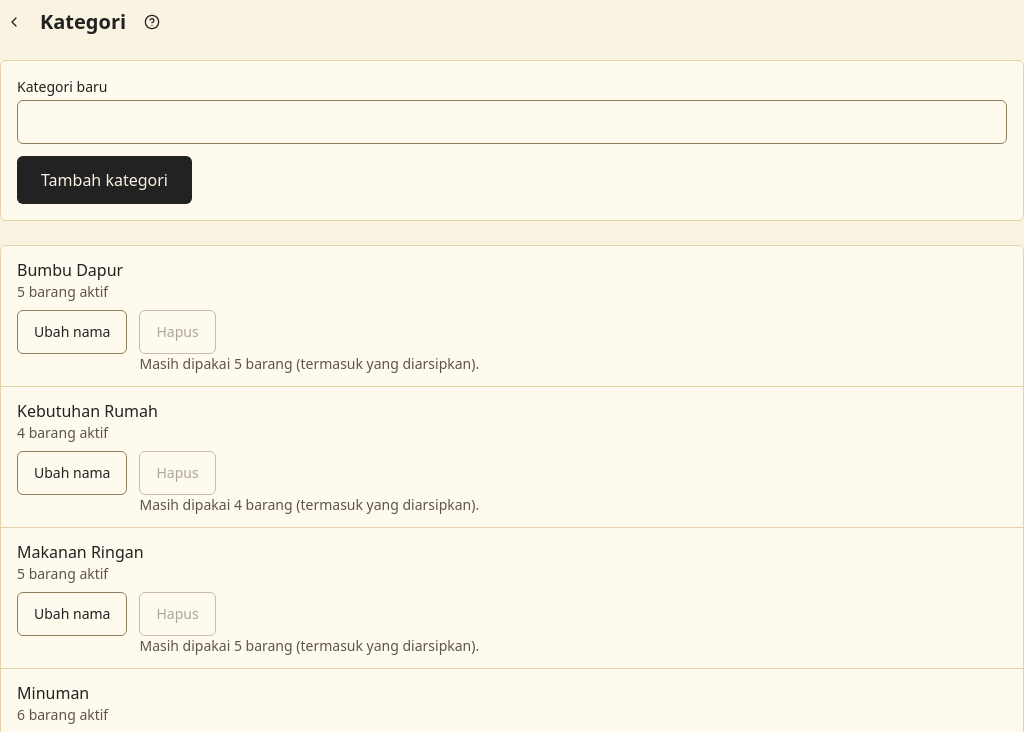
Test: CategoriesPage › mengganti nama: produk ikut berubah dan fokus kembali ke tombol Ubah nama
This screenshot has width=1024, height=732.
Click the button "Ubah nama" below "Bumbu Dapur" at (72, 332), box left=17, top=310, right=128, bottom=354
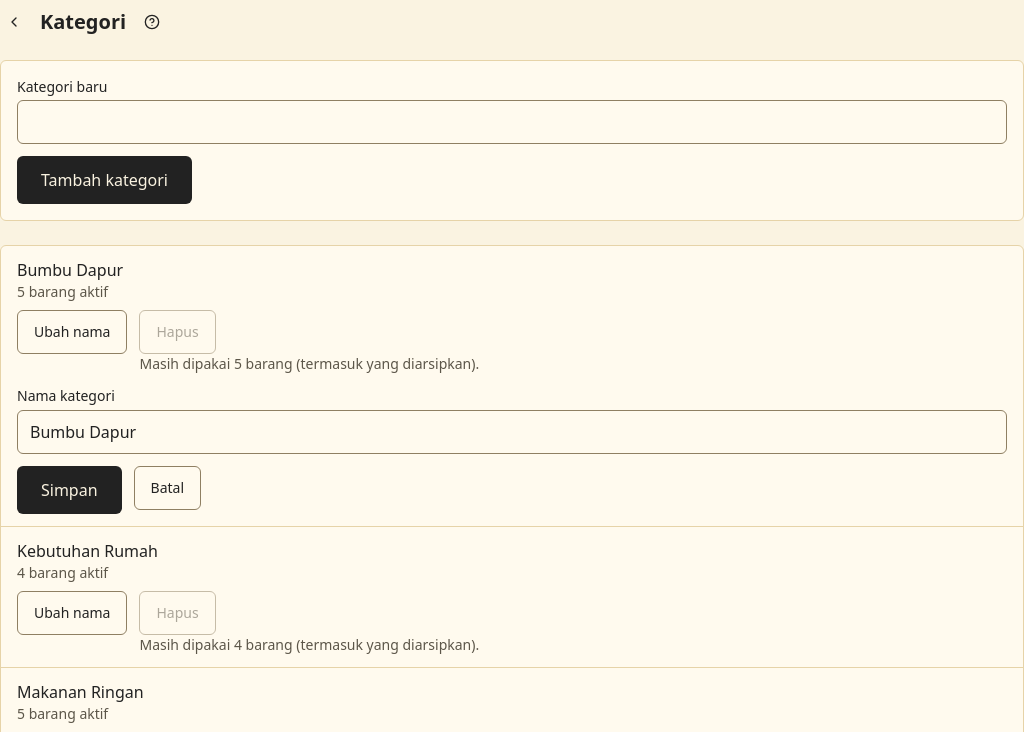
Replace the text in the field labelled "Nama kategori" with "Bumbu & Rempah" at (512, 432), box left=17, top=410, right=1007, bottom=454
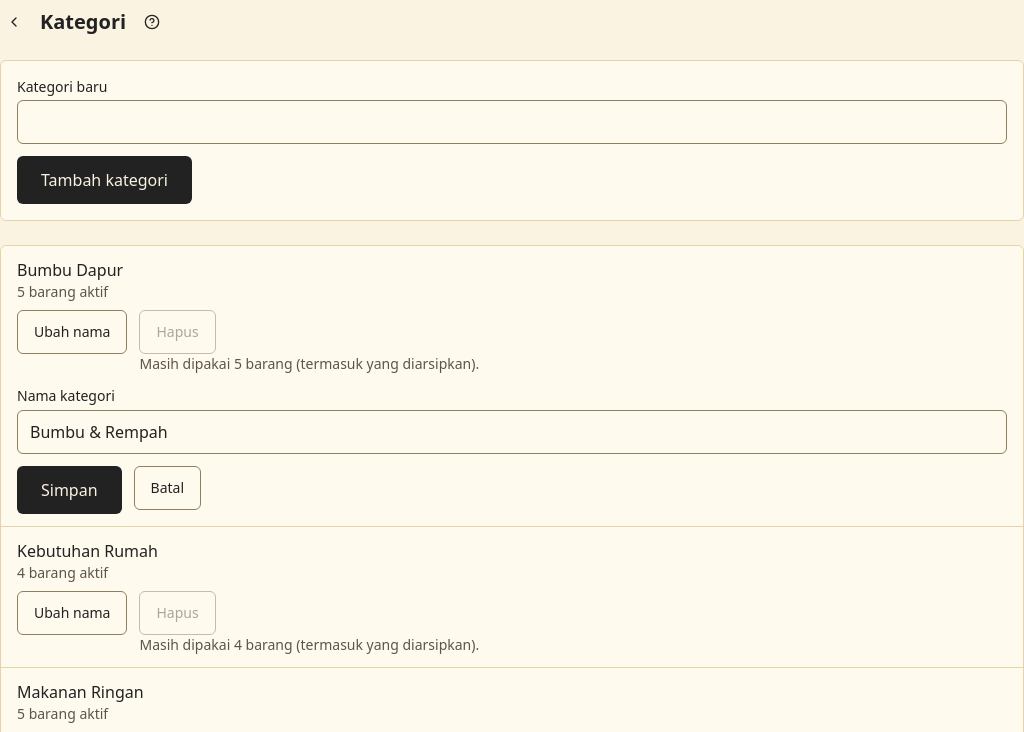
Click the button "Simpan" at (69, 490), box left=17, top=466, right=122, bottom=514
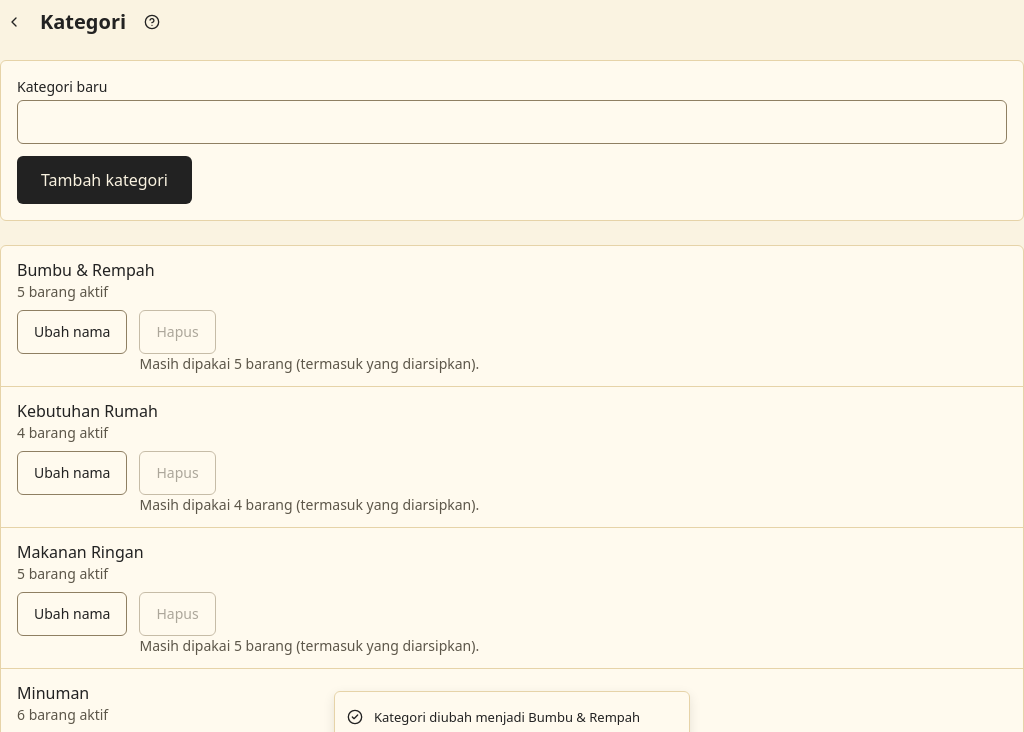
Check: the text "Bumbu & Rempah" is shown, box left=17, top=259, right=155, bottom=281
